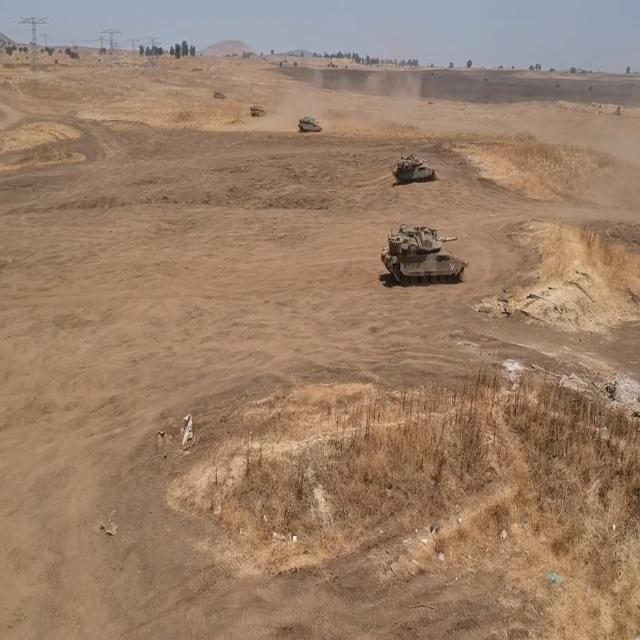tank: (376, 218, 468, 282), (388, 149, 436, 187), (300, 106, 321, 134), (249, 97, 266, 117)
